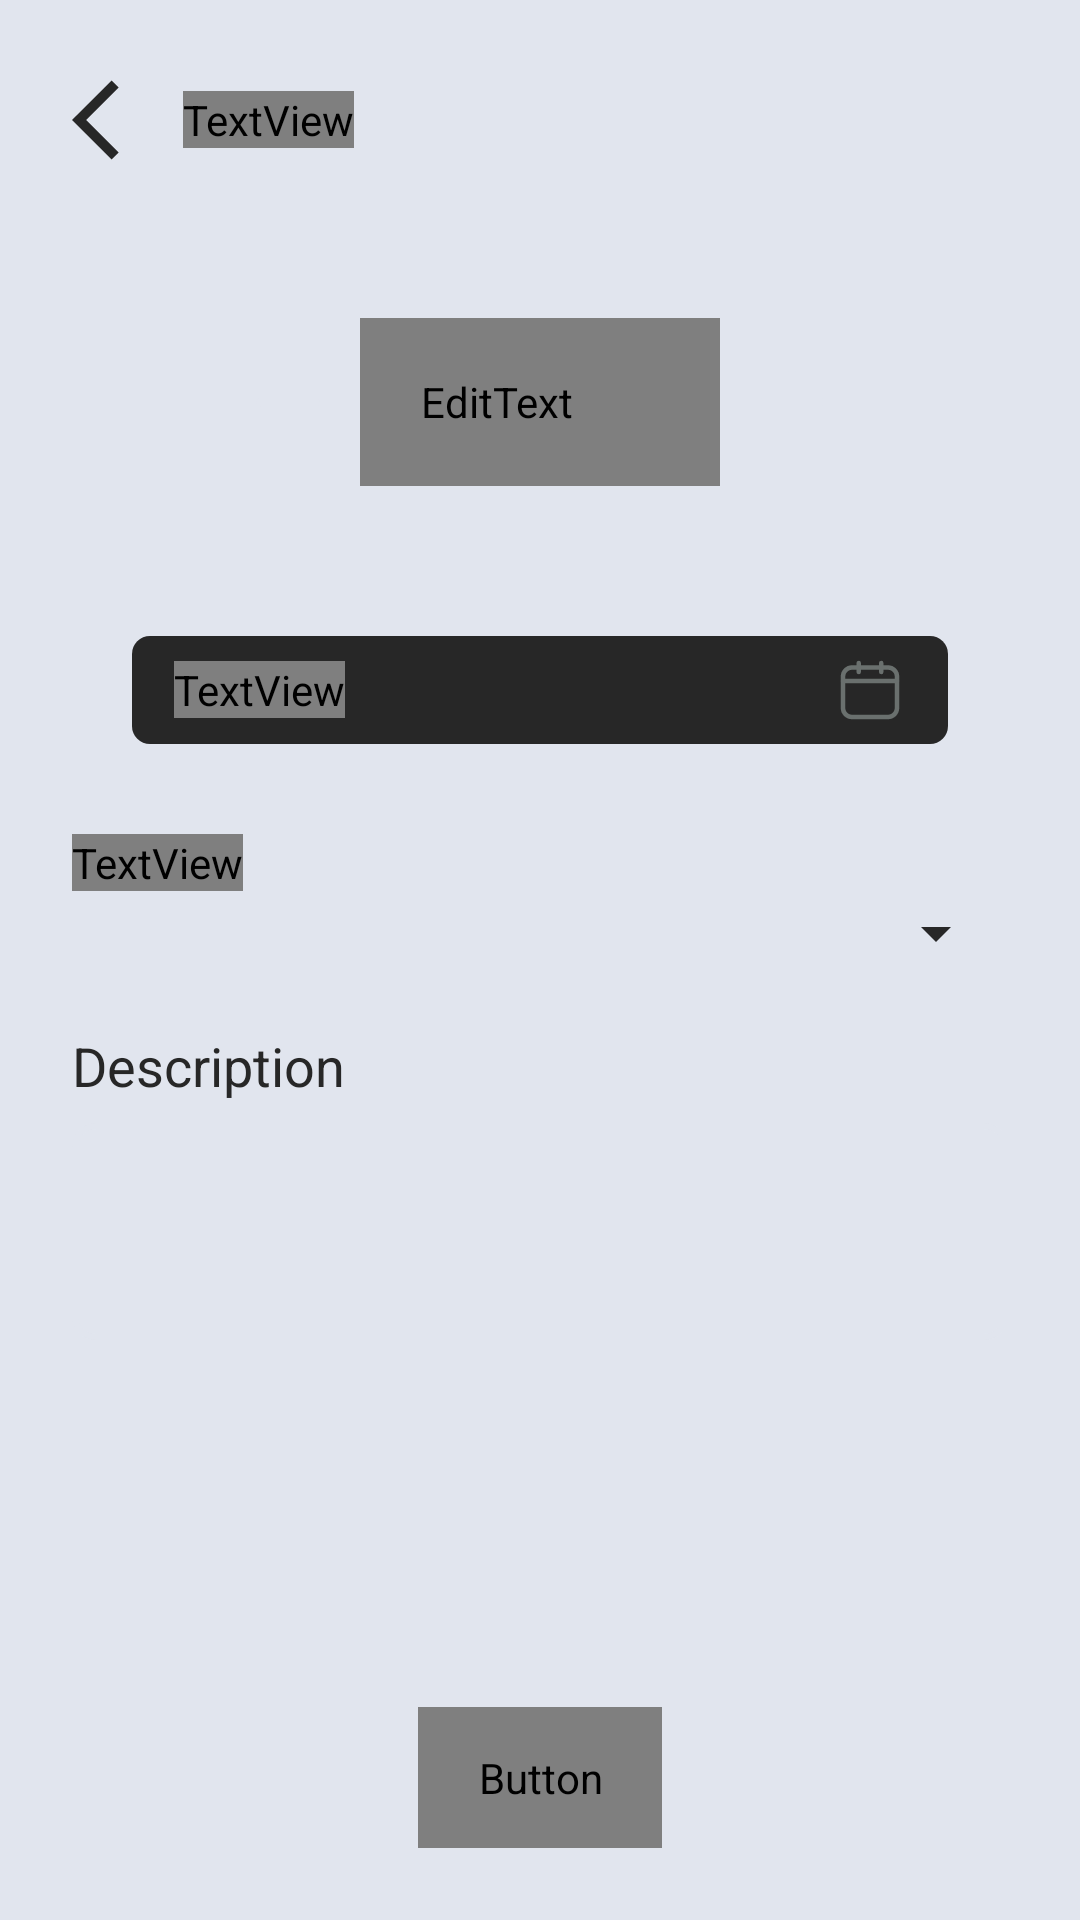

Screen size 1080 × 1920. Icon name, then its box in pixels as (x1, y1, x2, y2):
calendar: (841, 661, 899, 719)
left arrow: (72, 80, 119, 160)
